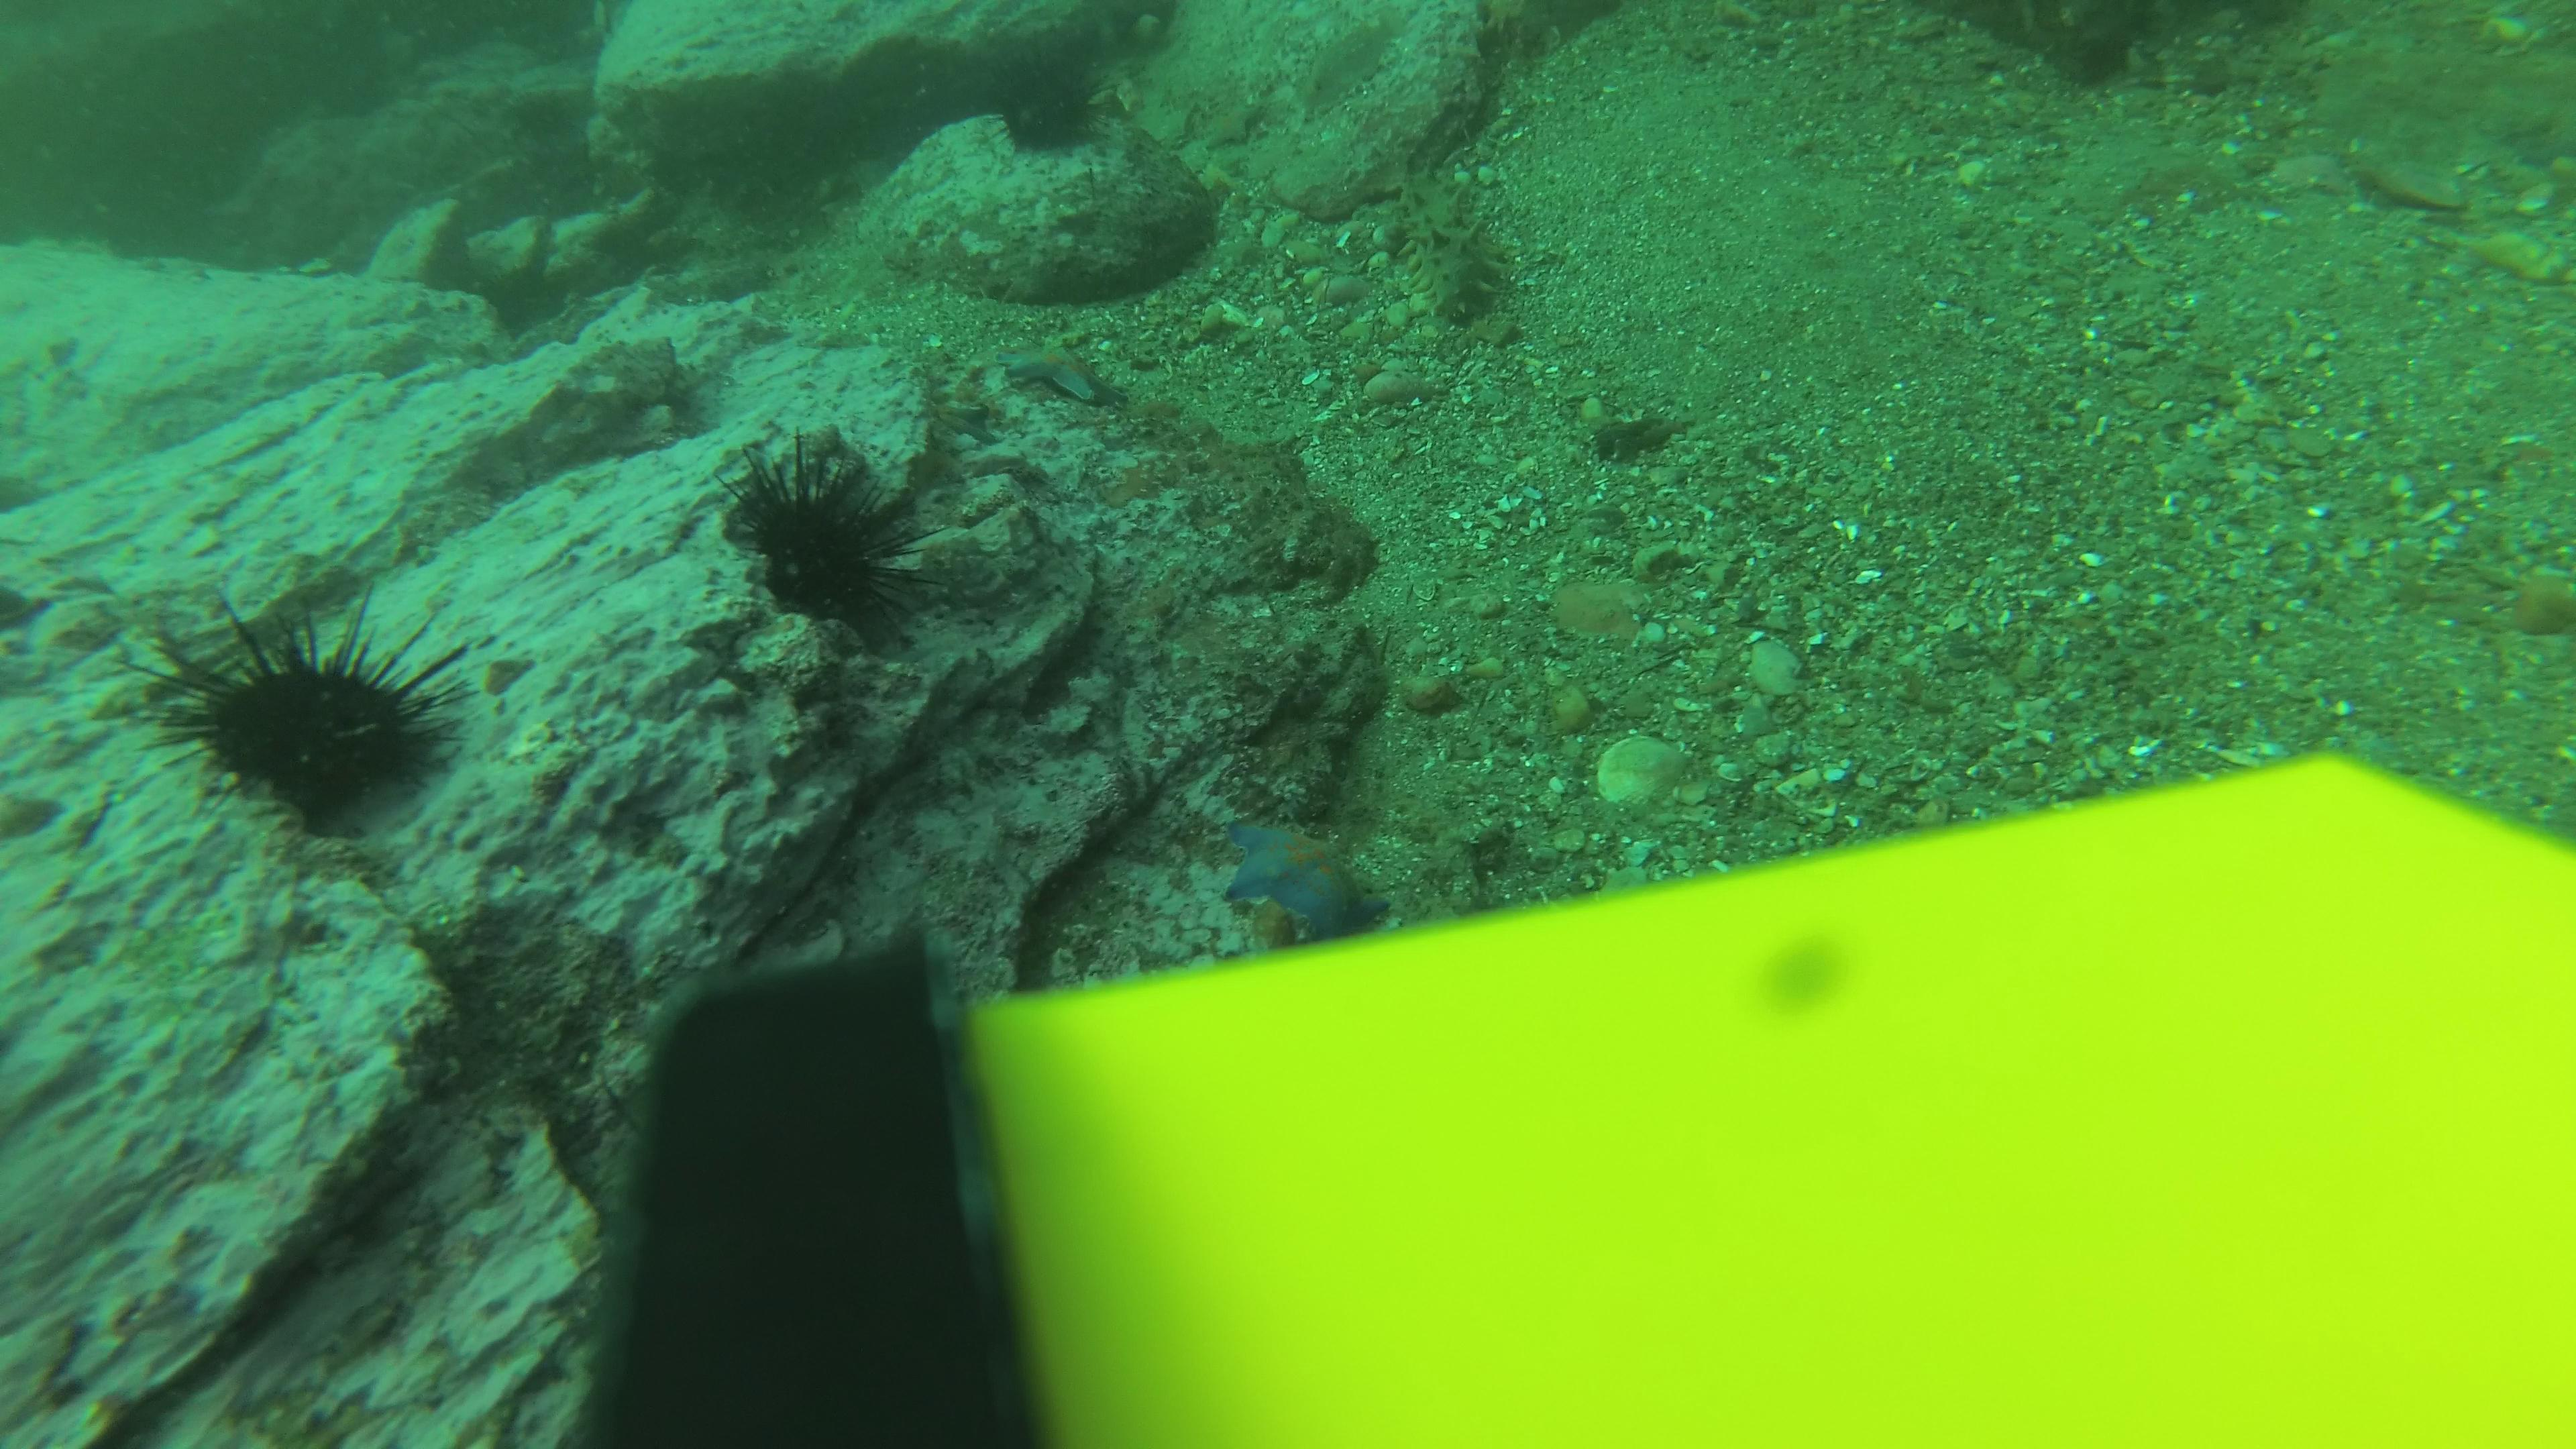urchin: (159, 609, 478, 826), (724, 439, 943, 640), (985, 71, 1113, 157)
